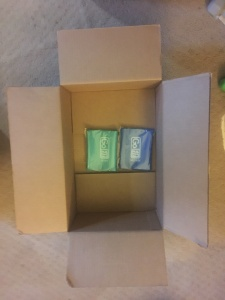innerbox: (59, 87, 163, 229)
outerbox: (8, 28, 206, 285)
product: (85, 124, 155, 175)
